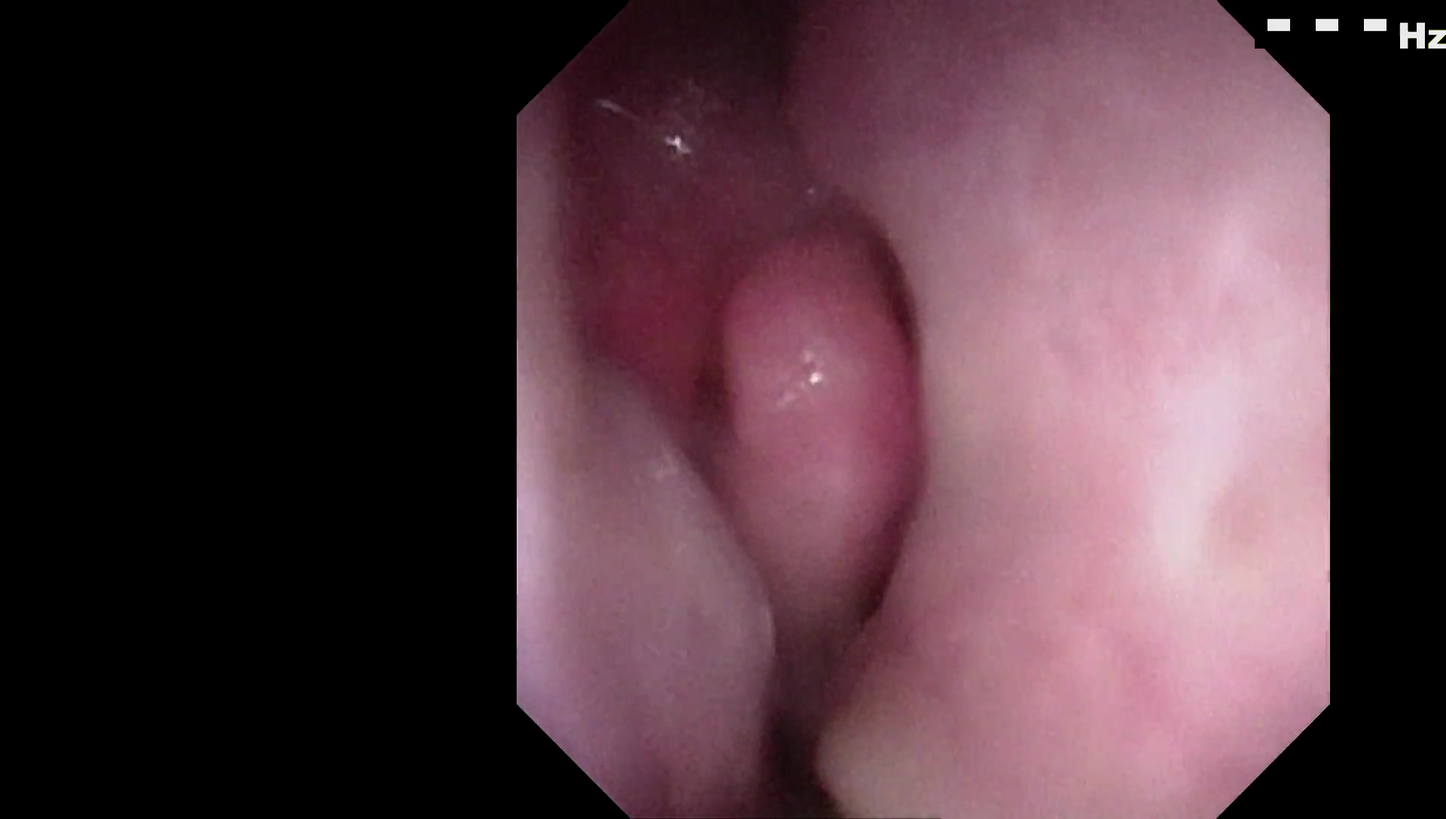close_wall: (940, 57, 1330, 705)
next: (697, 639, 845, 819), (620, 0, 842, 104)
